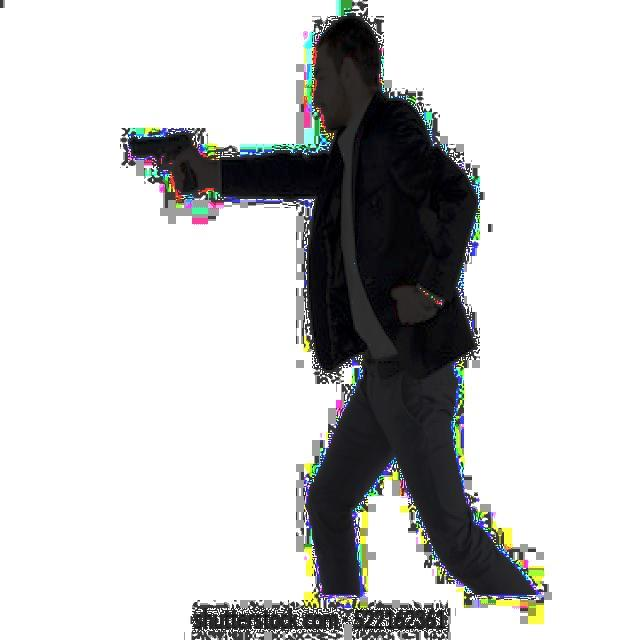Gun: (105, 111, 227, 244)
